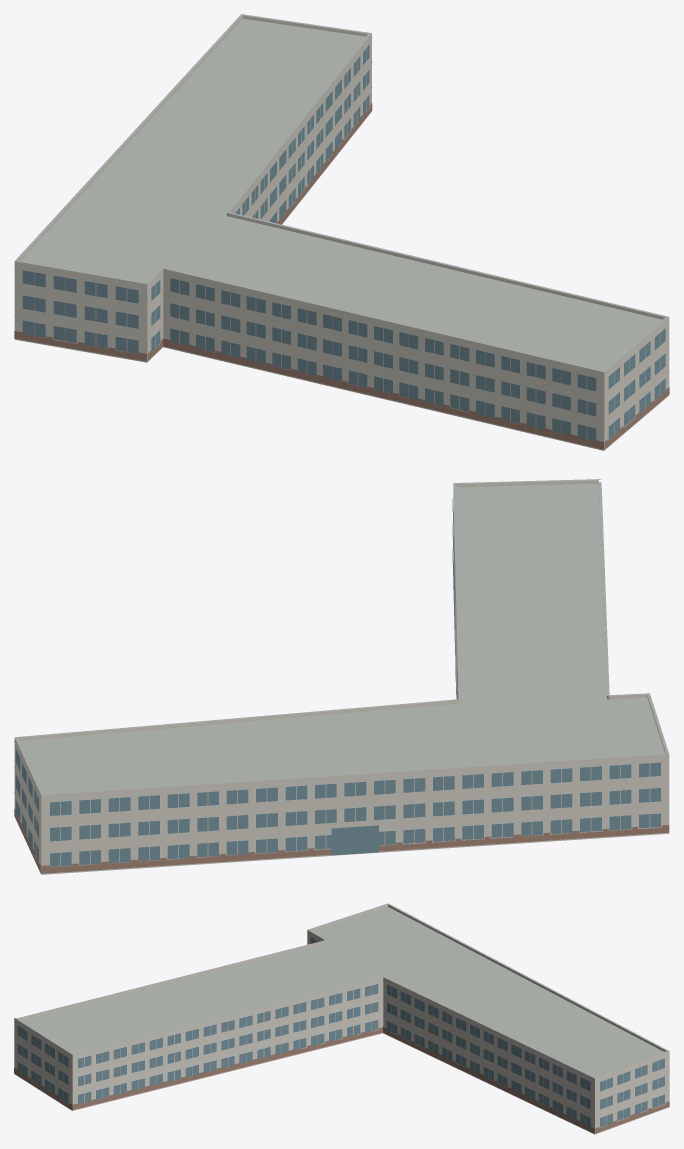
The model's file is public-b60027fb-e977-4fcf-86d2-8c409cf04bc1.glb.
3 views of the same model, one above another, from view 1: azimuth 30°, elevation 25°; view 2: azimuth 150°, elevation 25°; view 3: azimuth 270°, elevation 25° (orthographic). The views are drawn at different scales.
Visible parts, largest first — view 1: public-b60027fb-e977-4fcf-86d2-8c409cf04bc1; view 2: public-b60027fb-e977-4fcf-86d2-8c409cf04bc1; view 3: public-b60027fb-e977-4fcf-86d2-8c409cf04bc1.
Part boxes in pixels (bbox=[...]): public-b60027fb-e977-4fcf-86d2-8c409cf04bc1: bbox=[14, 14, 669, 450]; public-b60027fb-e977-4fcf-86d2-8c409cf04bc1: bbox=[14, 479, 669, 874]; public-b60027fb-e977-4fcf-86d2-8c409cf04bc1: bbox=[14, 903, 669, 1134].
Size of the model in its own units: 61.24 by 9.15 by 96.76.
